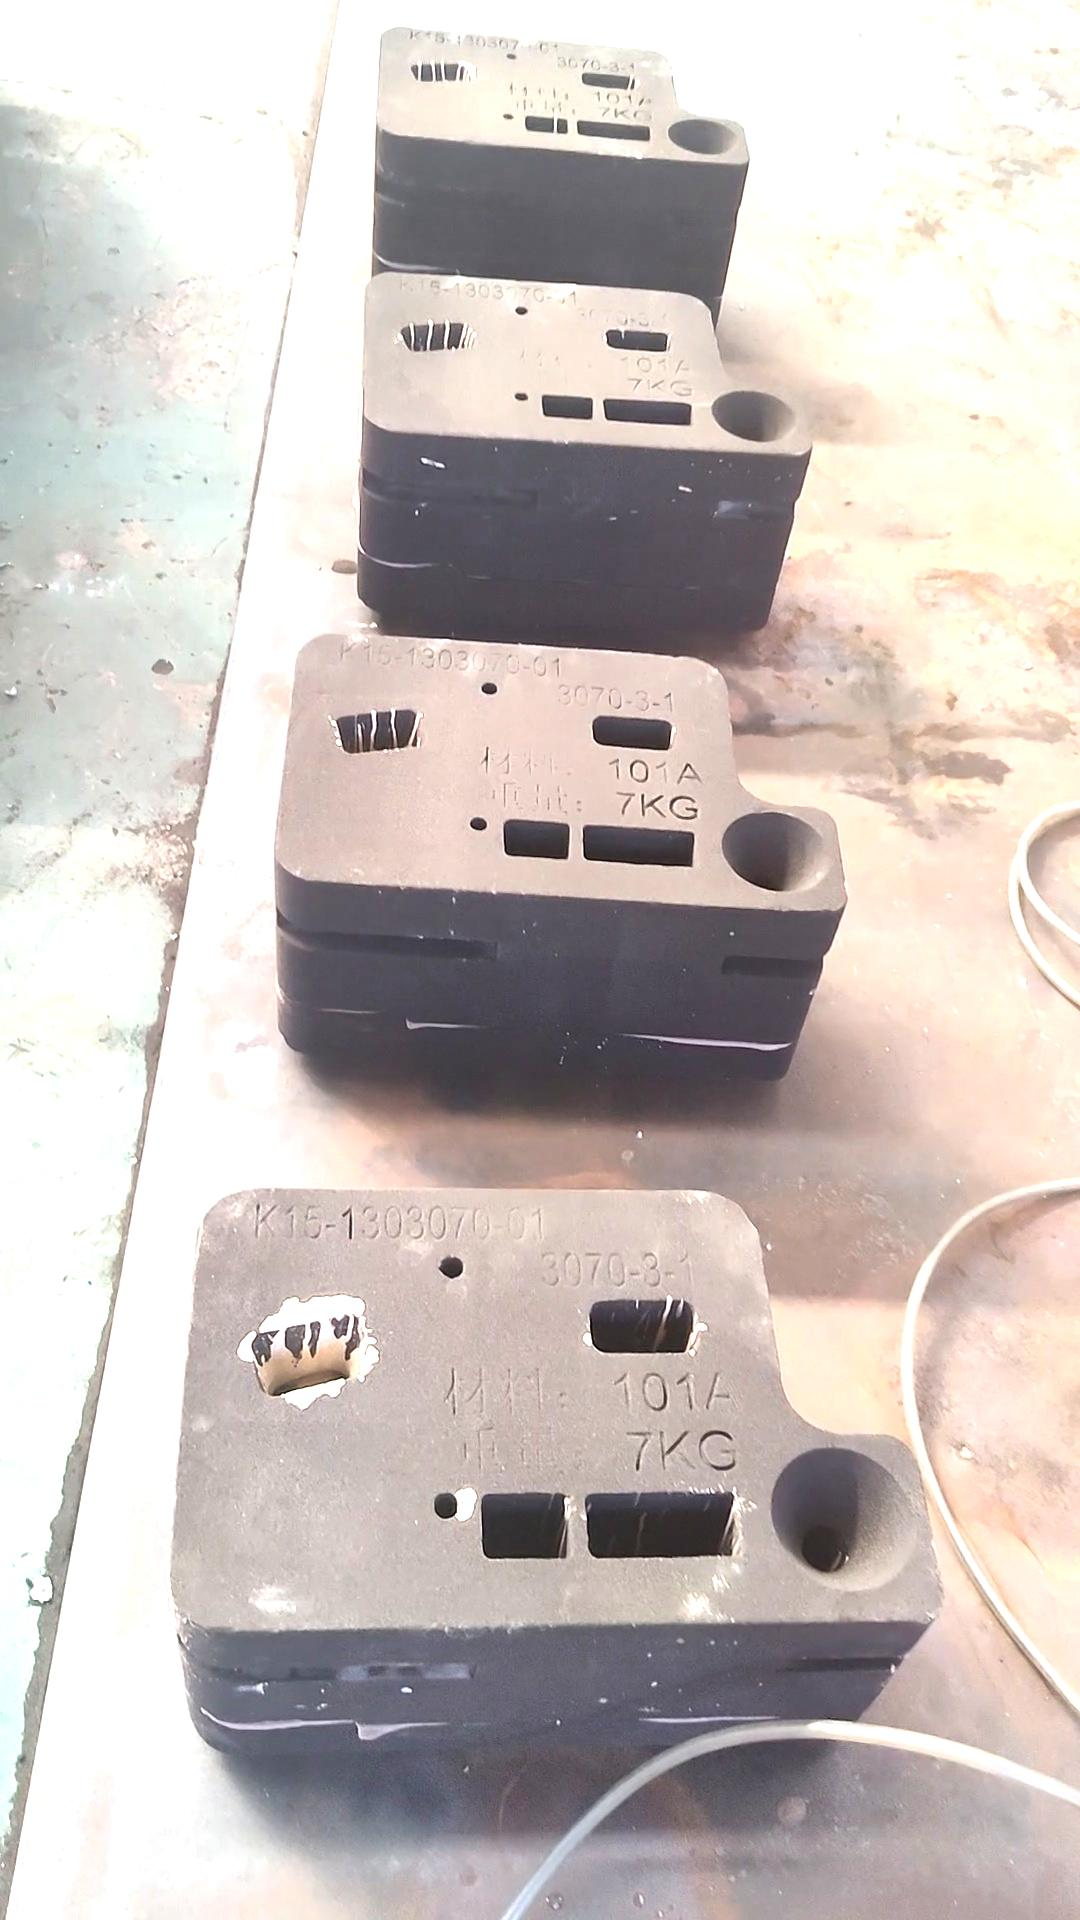pouring hole: (727, 814, 828, 891), (713, 388, 798, 443), (669, 119, 738, 157)
